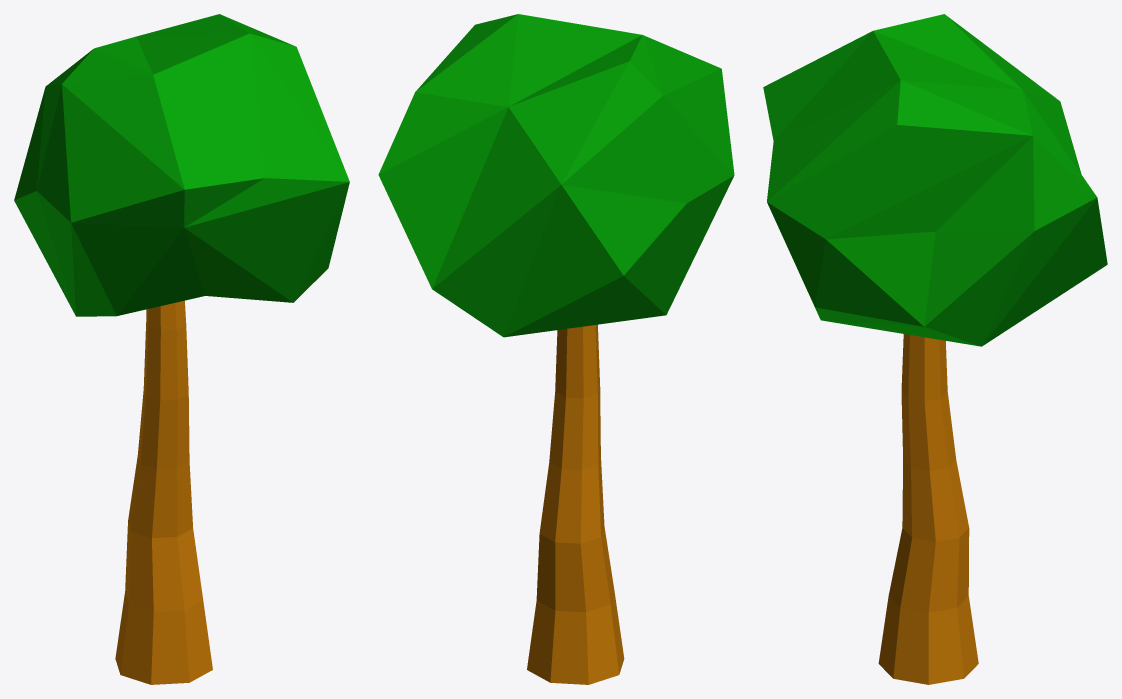
Rendered from Tree 3.fbx.
3 views of the same model, side by side, from view 1: azimuth 30°, elevation 25°; view 2: azimuth 150°, elevation 25°; view 3: azimuth 270°, elevation 25° (orthographic).
Visible parts, largest first — view 1: Tree 3; view 2: Tree 3; view 3: Tree 3.
Part boxes in pixels (x1,y1,x2,y2): Tree 3: [14, 14, 349, 684]; Tree 3: [378, 14, 734, 684]; Tree 3: [763, 14, 1107, 684].
Size of the model in its own units: 238 by 532 by 268.
